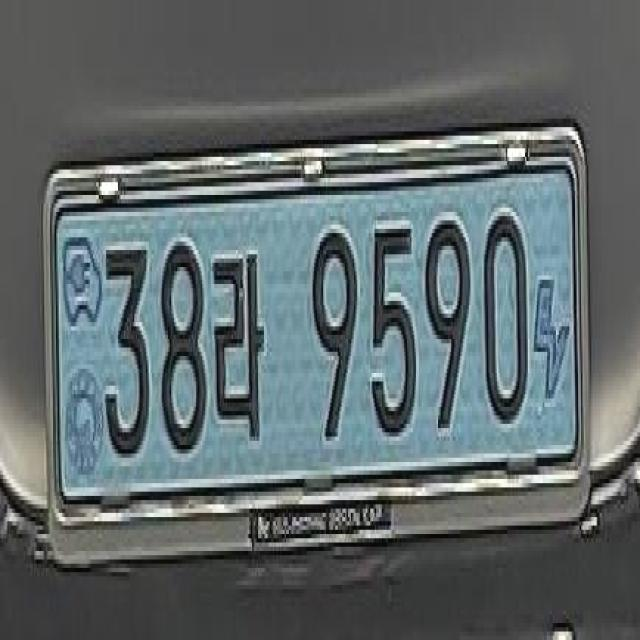EV_plate: (37, 108, 600, 557)
